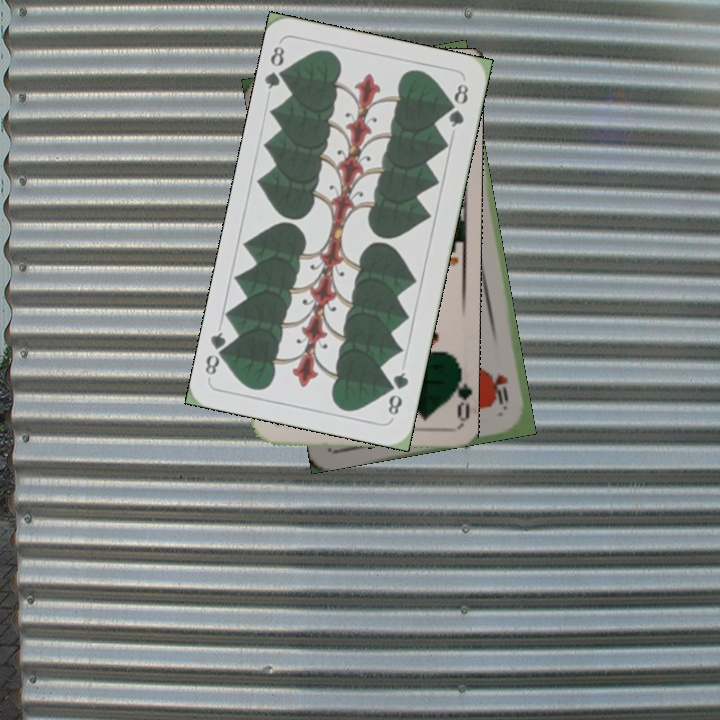G8: (261, 42, 293, 92), (384, 368, 412, 418)
GO: (443, 364, 471, 423)
HO: (491, 370, 511, 413)
